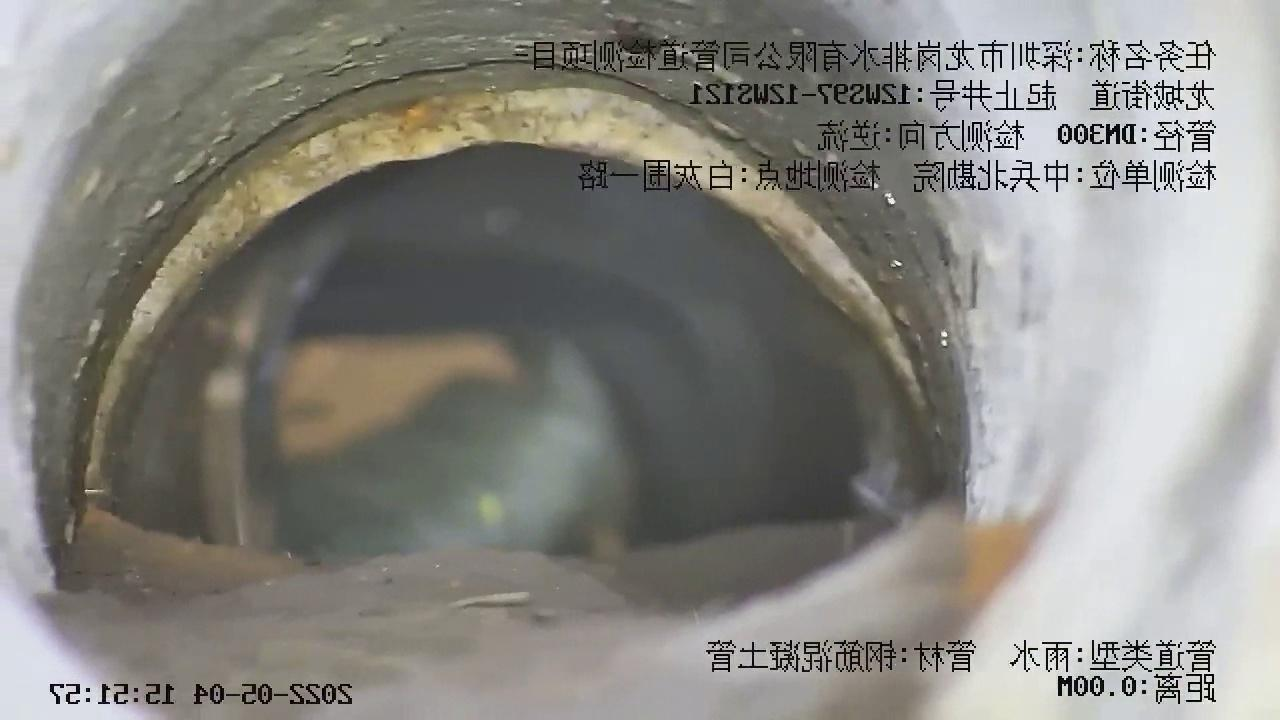CKTJ: (67, 65, 929, 511)
